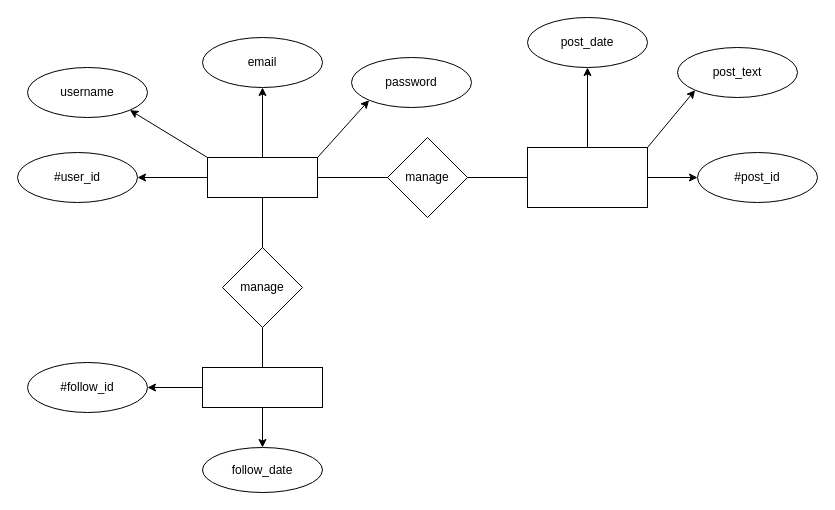
The diagram is 835 pixels wide and 510 high, and some of its shapes have lost their labels. Here are the shapes that lost their labels. From the top down, the centre of each, then its label:
(262,177): Users
(587,177): Posts
(262,387): Follow
